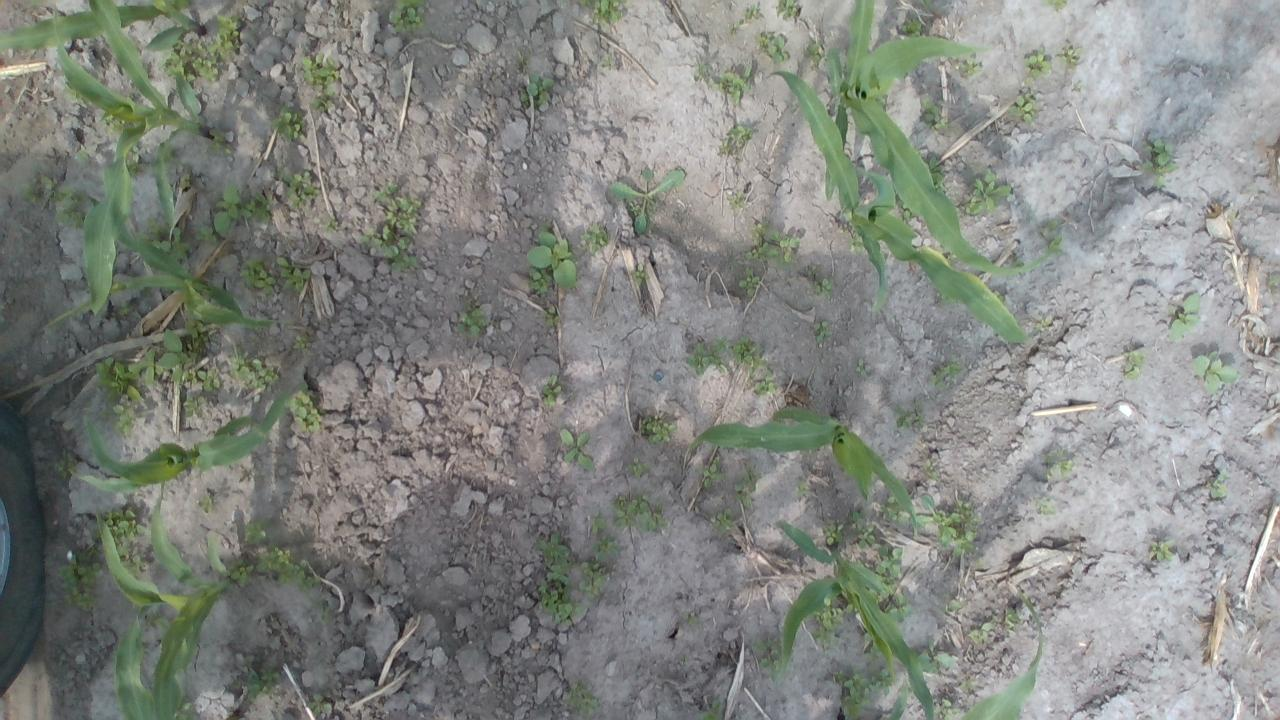Maize: (767, 68, 1042, 347), (820, 0, 1050, 279), (43, 0, 214, 318), (47, 154, 290, 332), (767, 518, 935, 720), (682, 402, 922, 537), (96, 491, 237, 720), (830, 586, 1044, 720), (66, 382, 300, 490), (114, 612, 241, 720), (0, 0, 207, 57)
Weeds: (604, 166, 686, 234), (527, 223, 578, 295), (255, 544, 322, 592), (743, 215, 800, 271), (136, 217, 195, 266), (60, 546, 100, 614), (362, 224, 418, 272), (93, 354, 144, 404), (156, 326, 198, 386), (610, 489, 668, 532), (534, 532, 574, 594), (939, 499, 980, 558), (962, 167, 1012, 215), (914, 494, 959, 546), (228, 346, 280, 390), (536, 583, 586, 627), (832, 665, 872, 720), (92, 507, 146, 547), (1194, 348, 1240, 393), (810, 595, 846, 648), (452, 296, 497, 338), (156, 38, 195, 84), (1142, 139, 1177, 190), (278, 166, 320, 208), (1166, 293, 1200, 344), (914, 636, 957, 676), (556, 427, 596, 470), (283, 390, 322, 434), (301, 52, 340, 96), (238, 256, 277, 295), (731, 335, 766, 376), (386, 194, 421, 234), (754, 636, 784, 682), (388, 0, 427, 35), (638, 412, 678, 446), (54, 188, 86, 230), (276, 255, 312, 292), (720, 64, 754, 103), (214, 184, 240, 234), (731, 464, 760, 507), (926, 354, 962, 388), (520, 72, 554, 108), (272, 105, 306, 140), (193, 39, 220, 83), (246, 668, 279, 704), (240, 190, 272, 227), (580, 558, 608, 600), (566, 682, 600, 716), (1023, 46, 1051, 86), (754, 32, 790, 63), (590, 0, 627, 30), (922, 155, 948, 197), (891, 398, 924, 430), (116, 546, 149, 578), (213, 13, 240, 52), (697, 454, 725, 490), (918, 96, 948, 129), (1044, 447, 1074, 479), (851, 509, 875, 549), (684, 342, 712, 376), (878, 494, 909, 524), (1008, 92, 1038, 123), (868, 664, 896, 697), (967, 615, 999, 643), (875, 544, 902, 577), (580, 222, 608, 253), (98, 110, 134, 134), (183, 317, 210, 348), (111, 404, 134, 439), (710, 335, 730, 375), (1038, 218, 1062, 251), (753, 368, 780, 397), (142, 610, 172, 636), (887, 593, 914, 621), (590, 534, 619, 560), (142, 349, 162, 386), (1058, 42, 1084, 70), (55, 450, 79, 480), (206, 128, 232, 155), (227, 557, 253, 584), (65, 82, 94, 106), (1124, 349, 1147, 379), (931, 697, 960, 720), (738, 267, 762, 294), (712, 508, 736, 535), (542, 372, 561, 406), (862, 630, 882, 662), (244, 518, 268, 544), (198, 368, 222, 393), (183, 394, 207, 419), (626, 456, 653, 478), (1206, 471, 1227, 499), (895, 198, 918, 223), (306, 692, 331, 715), (196, 488, 218, 514), (1148, 540, 1174, 561), (539, 304, 563, 326), (956, 55, 981, 76), (125, 144, 140, 178), (1004, 606, 1021, 636), (18, 183, 41, 205), (821, 524, 844, 546), (810, 319, 831, 343), (1036, 495, 1058, 517), (902, 16, 924, 38), (586, 511, 607, 534), (630, 262, 650, 286), (372, 182, 396, 202), (700, 700, 724, 720), (937, 594, 963, 612), (727, 124, 753, 142), (196, 222, 218, 243), (814, 276, 834, 298), (803, 42, 823, 64), (775, 0, 798, 19), (728, 190, 748, 211), (310, 96, 333, 114), (42, 175, 58, 200), (848, 231, 864, 255), (938, 290, 960, 306), (693, 60, 709, 82), (682, 610, 703, 626), (924, 460, 940, 480), (1040, 0, 1068, 11), (311, 597, 330, 613), (117, 302, 135, 318), (880, 575, 899, 590), (322, 216, 339, 232), (960, 676, 978, 691), (1035, 314, 1051, 330), (796, 481, 811, 498), (517, 52, 531, 70), (855, 358, 868, 377), (292, 334, 308, 349), (178, 173, 192, 189), (869, 588, 884, 602), (744, 4, 758, 19), (76, 146, 90, 160), (1010, 254, 1024, 268), (600, 55, 614, 69), (843, 602, 859, 614), (719, 138, 731, 154), (917, 0, 934, 11), (1267, 274, 1280, 288), (994, 290, 1006, 305), (727, 22, 739, 36), (1228, 210, 1238, 226), (808, 264, 821, 276), (874, 96, 886, 108), (98, 406, 111, 417), (706, 79, 718, 90), (976, 556, 986, 568), (840, 223, 850, 234), (579, 0, 592, 7)
